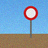sign: (24, 6, 38, 37)
